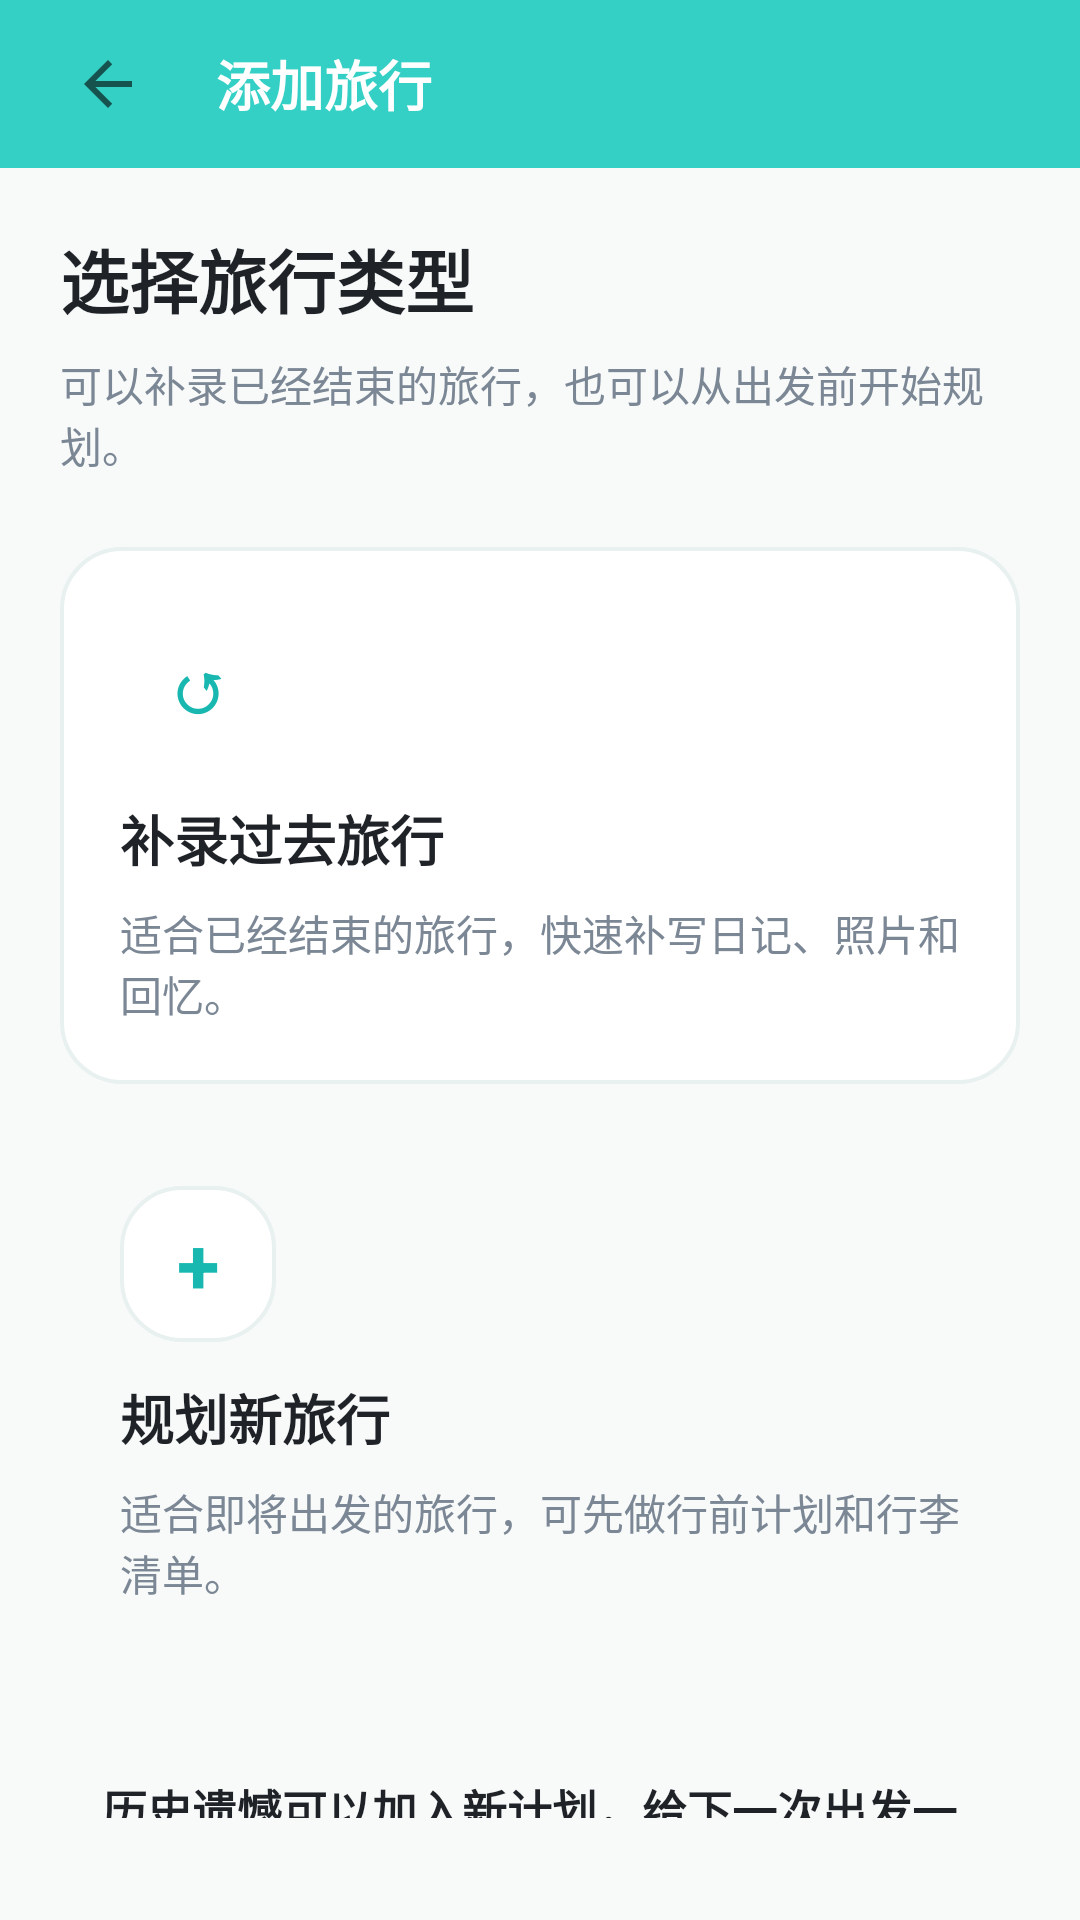

Screen size 1080w x 1920h. Icon name, then its box in pixels as (x1, y1, x2, y2):
返回: (84, 60, 132, 108)
